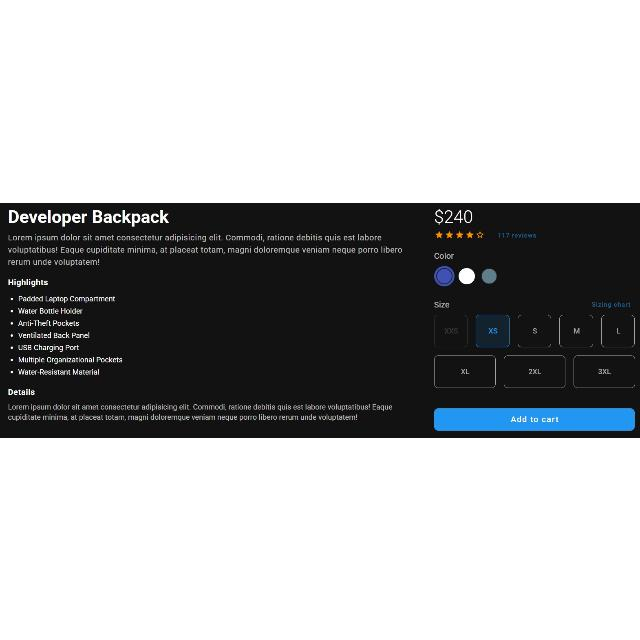QLabel: (6, 230, 404, 268), (6, 402, 394, 422), (7, 207, 170, 225), (8, 354, 122, 364), (8, 294, 118, 304), (9, 367, 102, 375), (8, 330, 92, 338), (10, 343, 84, 351), (9, 306, 83, 314), (9, 318, 83, 326), (435, 208, 473, 222), (508, 415, 562, 423), (6, 276, 48, 286), (591, 300, 631, 308), (497, 232, 537, 238), (7, 388, 35, 394), (435, 251, 455, 259), (433, 300, 451, 308), (443, 326, 459, 334), (528, 368, 542, 374), (487, 326, 497, 334), (460, 367, 470, 375), (598, 368, 610, 374), (532, 327, 538, 335), (573, 328, 581, 334), (616, 326, 620, 334)
VBtn: (433, 406, 635, 432), (572, 354, 636, 388), (504, 354, 566, 388), (434, 354, 496, 388), (558, 313, 594, 347), (434, 313, 468, 347), (476, 313, 510, 347), (517, 313, 551, 347), (601, 314, 635, 346)
VRadio: (434, 264, 454, 286), (458, 266, 476, 284), (481, 267, 497, 283)
VRating: (436, 230, 484, 240)
